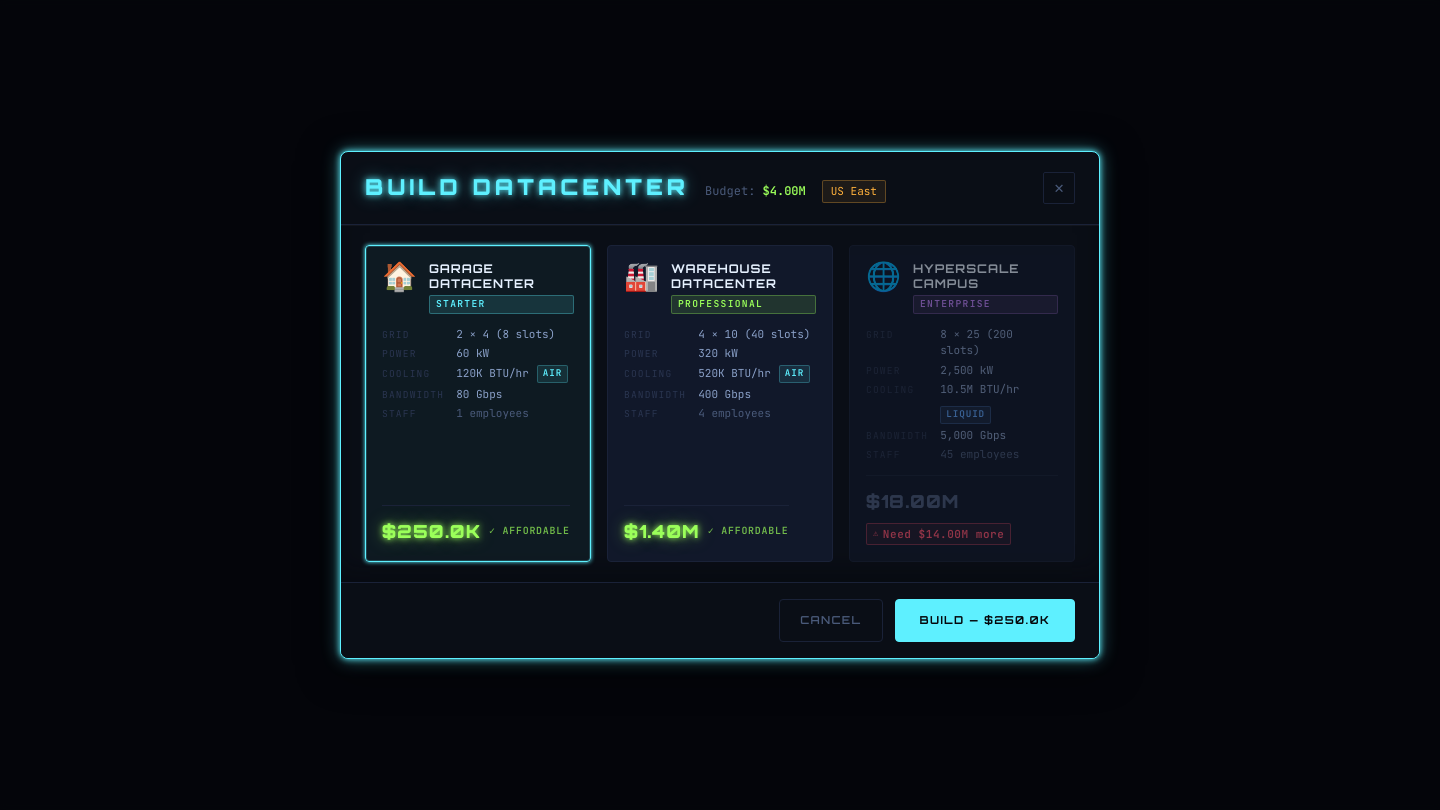
Test: NewDatacenterModal › BUILD button is disabled when unaffordable spec is selected
Note: Click the Hyperscale card (unaffordable)
Click the button "Hyperscale Campus" at [962, 404], box [849,246,1075,562]
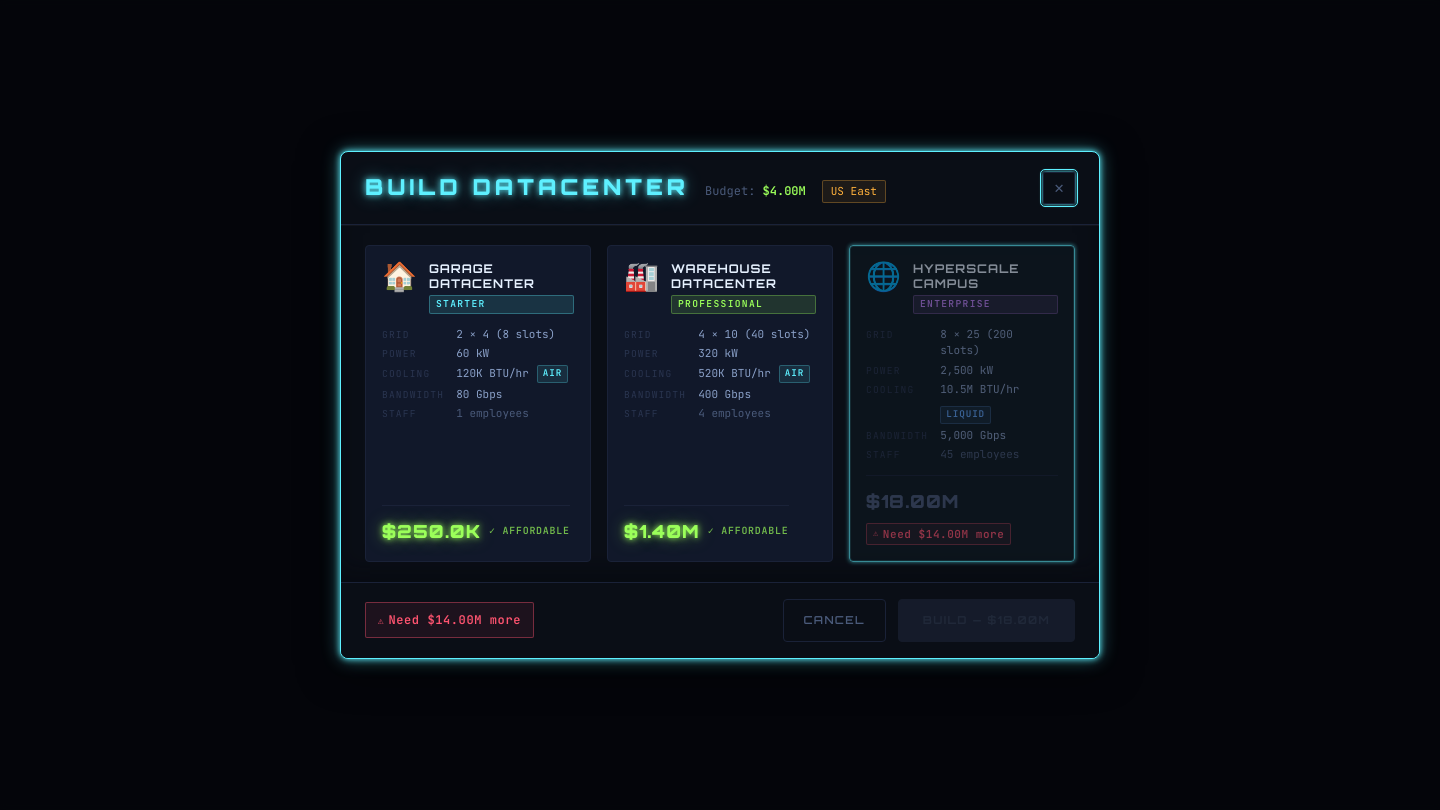
Now the button "BUILD — $18.00M" is disabled, box [898,599,1075,642]
